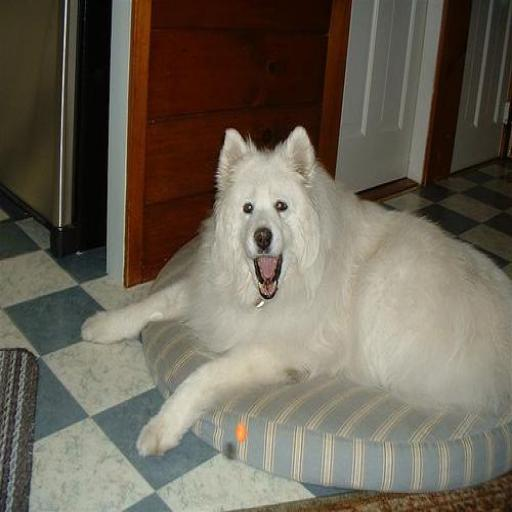dog_face: (211, 124, 314, 304)
